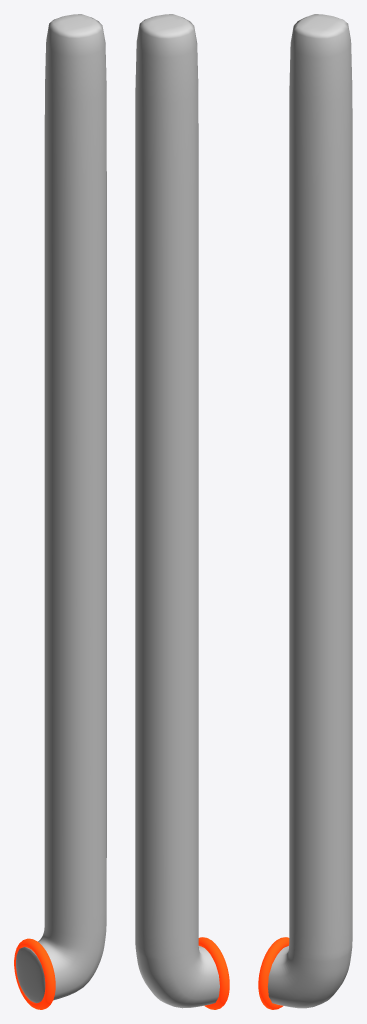
File: Tüp.fbx
3 views of the same model, side by side, from view 1: azimuth 30°, elevation 25°; view 2: azimuth 210°, elevation 25°; view 3: azimuth 330°, elevation 25° (orthographic). The views are drawn at different scales.
Parts seen in each view (by area): view 1: tube2.001, Torus.004; view 2: tube2.001, Torus.004; view 3: tube2.001, Torus.004.
Boxes of the visible parts, x1,y1,x2,y2 form: tube2.001: (16,14,106,1003); Torus.004: (14,938,55,1009); tube2.001: (135,14,219,1008); Torus.004: (198,937,229,1009); tube2.001: (267,14,352,1008); Torus.004: (258,937,289,1009).
Size of the model in its own units: 119 by 1526 by 103.
